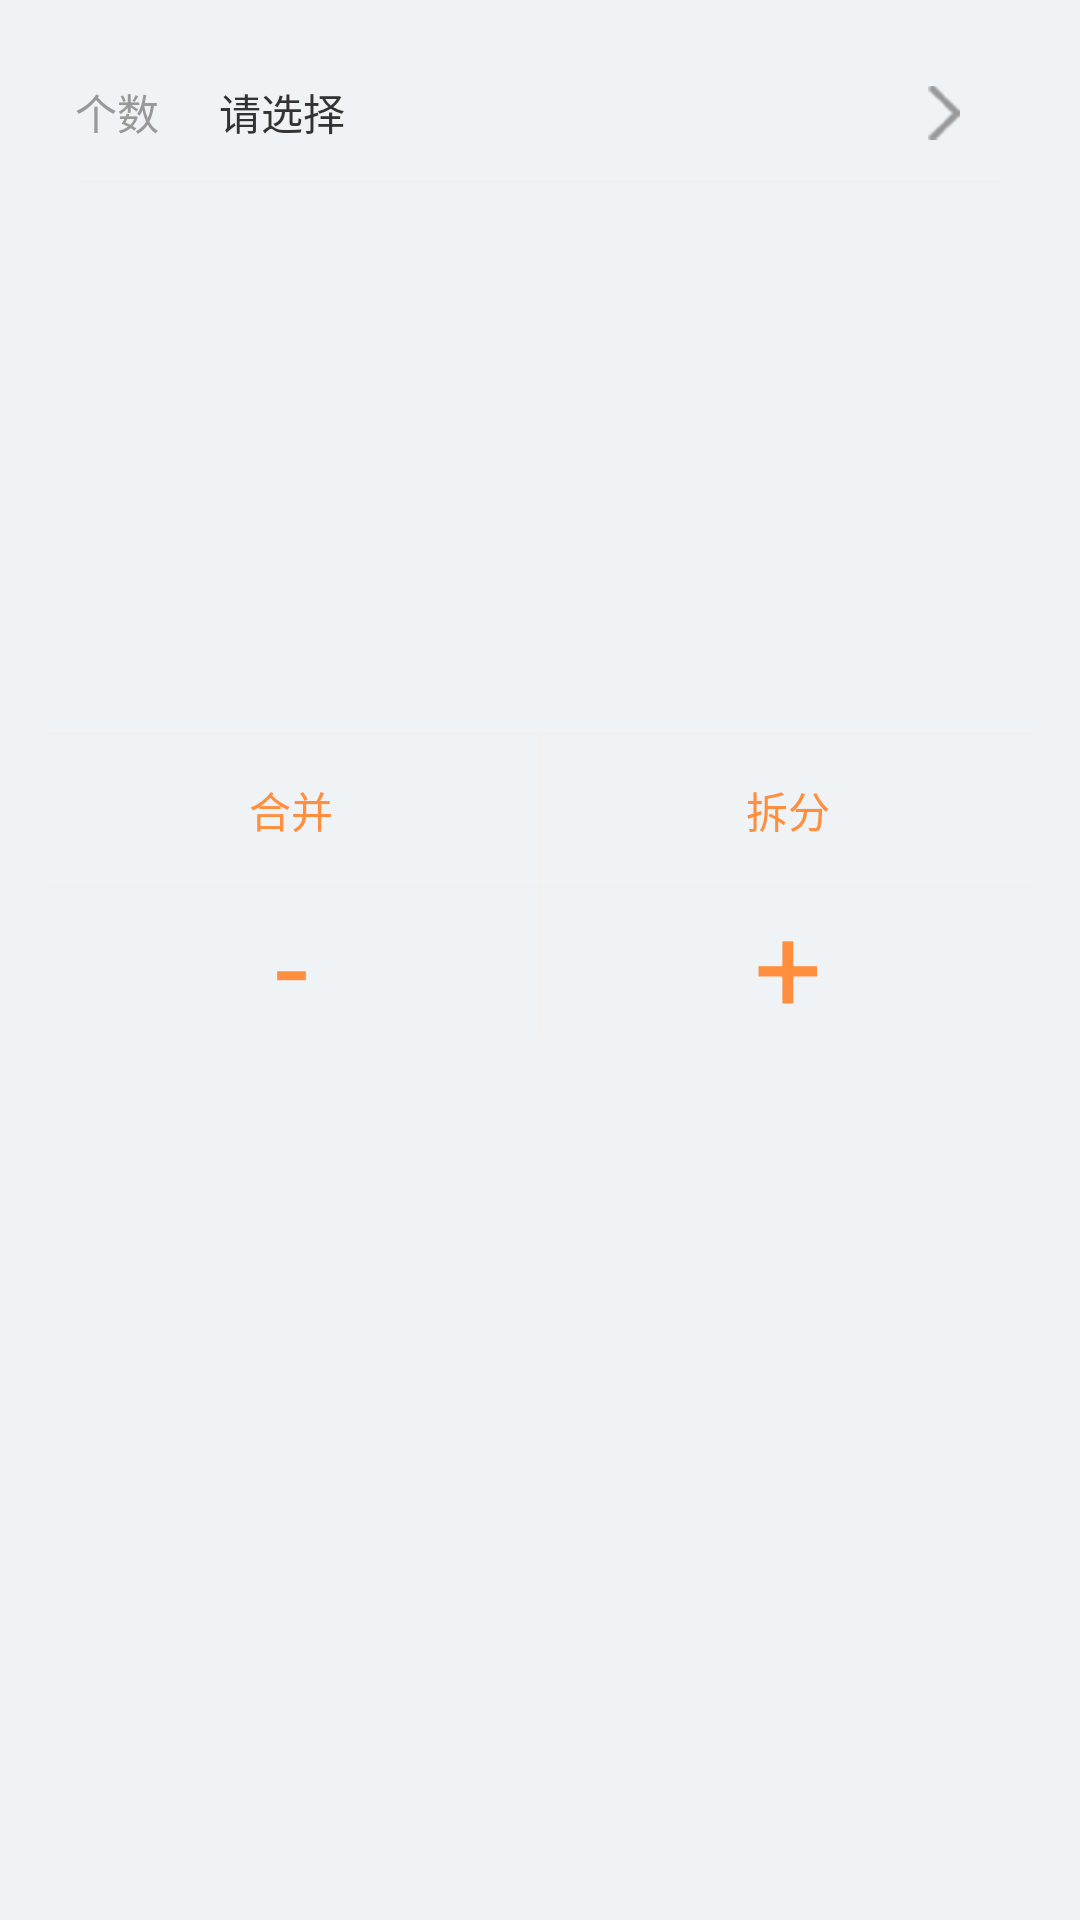

Where icons sit on this 1080w x 1920h app screen, as [x1=x1, y1=y1, x2=x2, y2=y2]:
right: [x1=928, y1=86, x2=960, y2=140]
